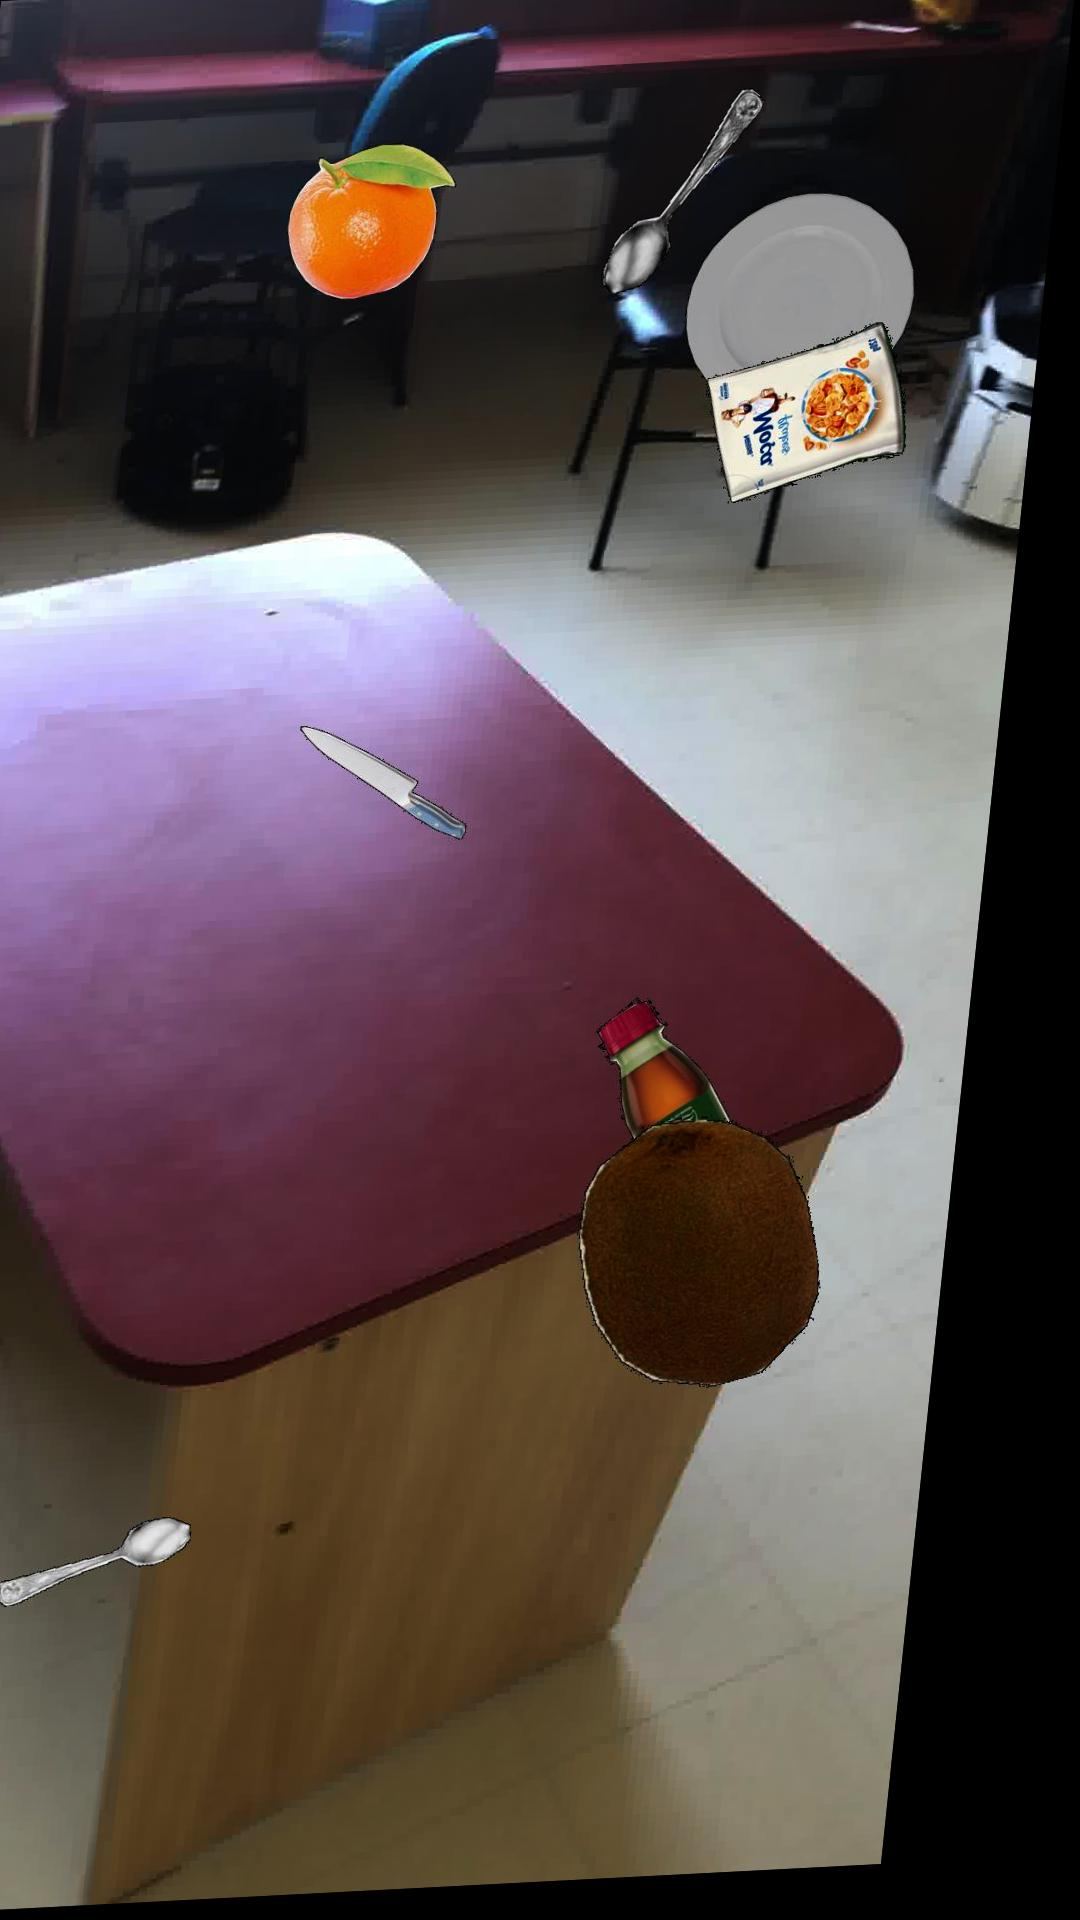corn flakes: (715, 330, 914, 509)
guarana: (617, 1006, 756, 1145)
kiwi: (604, 1126, 847, 1394)
knife: (315, 728, 483, 843)
orange: (290, 145, 459, 302)
plate: (691, 199, 920, 388)
spoon: (607, 95, 766, 299), (30, 1518, 223, 1606)
